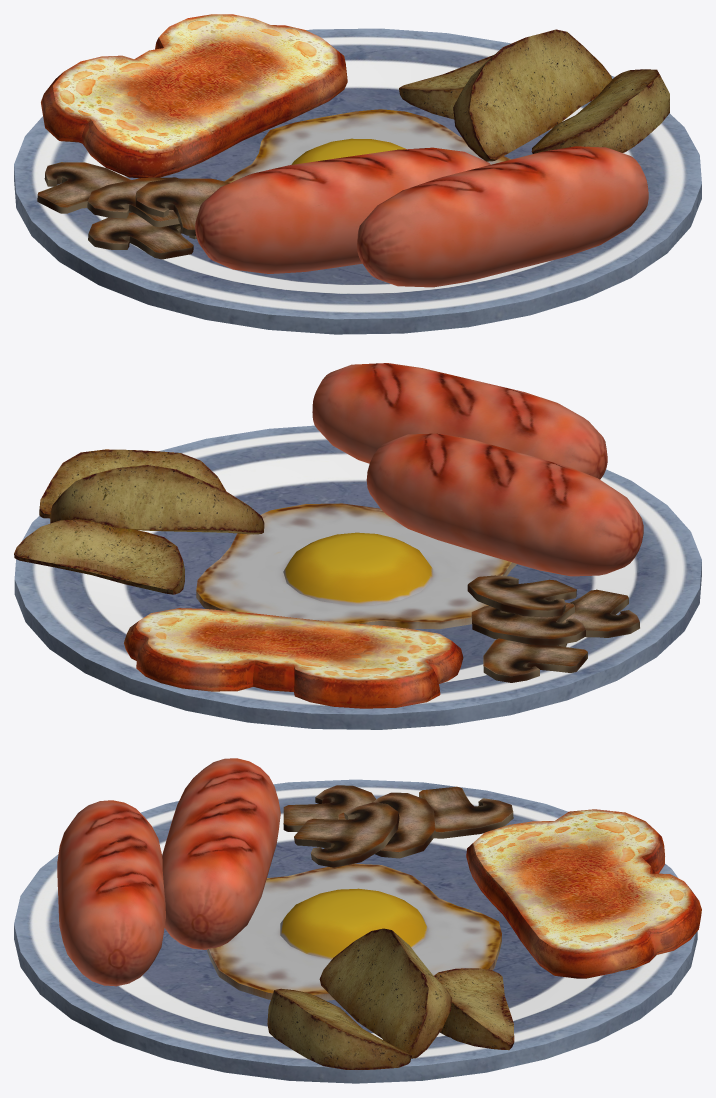
3 views of the same model, one above another, from view 1: azimuth 30°, elevation 25°; view 2: azimuth 150°, elevation 25°; view 3: azimuth 270°, elevation 25° (orthographic).
Parts seen in each view (by area): view 1: Circle, Plane.001, sausage_low.001, Circle.002, sausage_low, Circle.004, fried_eggs_low; view 2: Circle, fried_eggs_low, sausage_low, Plane.001, Circle.002, sausage_low.001, Circle.004; view 3: Circle, Plane.001, fried_eggs_low, Circle.002, sausage_low, sausage_low.001, Circle.004.
Boxes of the visible parts, x1,y1,x2,y2 form: Circle: [14, 28, 701, 334]; Plane.001: [41, 14, 347, 178]; sausage_low.001: [357, 146, 648, 287]; Circle.002: [399, 29, 669, 161]; sausage_low: [195, 147, 490, 273]; Circle.004: [37, 162, 230, 259]; fried_eggs_low: [225, 109, 510, 182]; Circle: [14, 425, 701, 729]; fried_eggs_low: [196, 503, 516, 629]; sausage_low: [366, 433, 643, 576]; Plane.001: [124, 608, 463, 708]; Circle.002: [14, 449, 264, 594]; sausage_low.001: [312, 363, 607, 479]; Circle.004: [467, 575, 639, 682]; Circle: [14, 779, 697, 1083]; Plane.001: [466, 809, 701, 978]; fried_eggs_low: [207, 863, 501, 1000]; Circle.002: [267, 928, 514, 1069]; sausage_low: [162, 758, 280, 949]; sausage_low.001: [57, 800, 165, 986]; Circle.004: [283, 785, 513, 867].
Bounding box in the file's own units: 0.6792 × 0.1562 × 0.678.
Materials: 6 (6 with a texture image).
